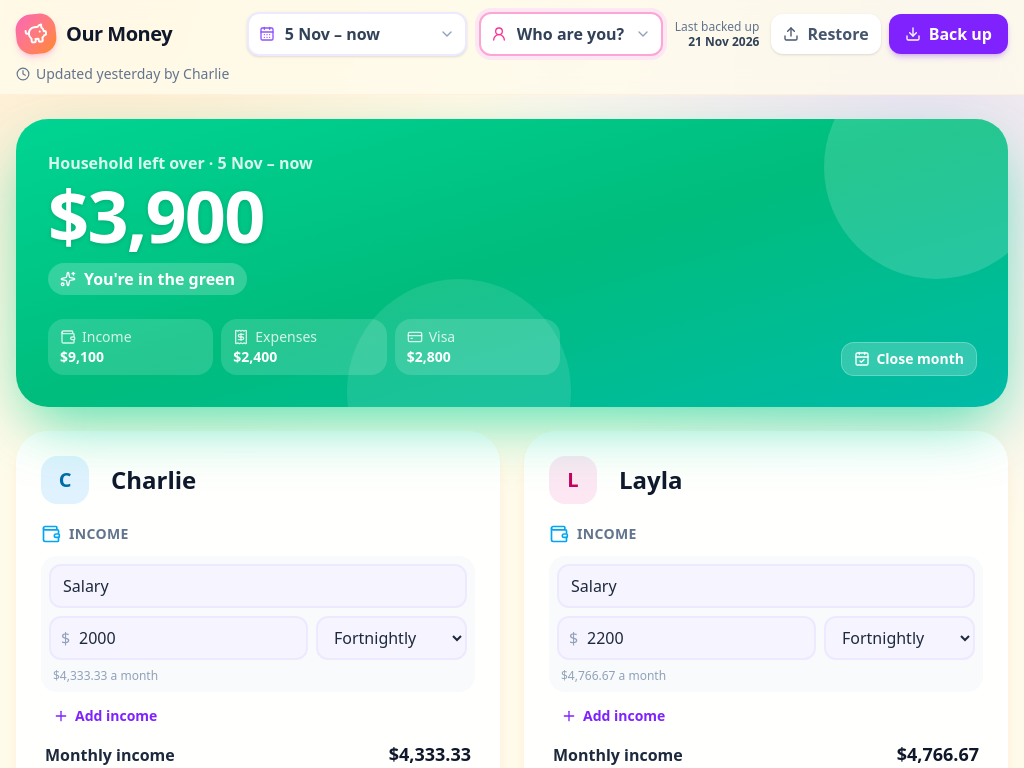
Restore › points out changes made since the last backup
This screenshot has width=1024, height=768.
Step 1. Click the button "Restore" → click(826, 34), box [771,14,881,54]
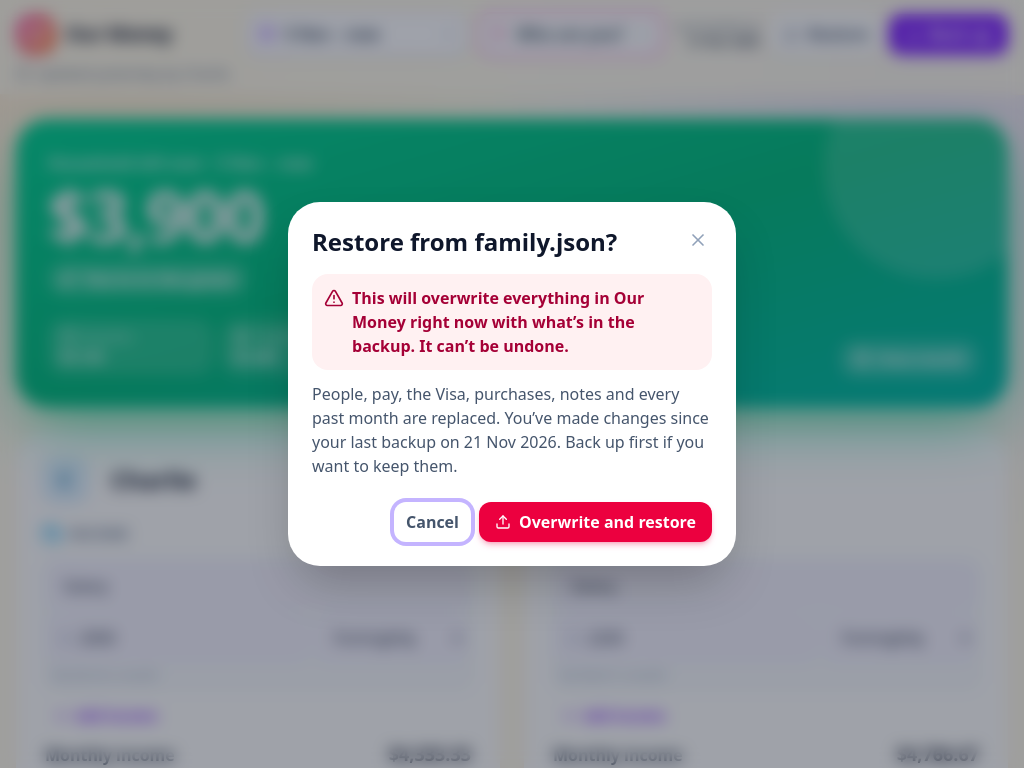
Expected: the dialog shows "You’ve made changes since your last backup", [312,407,709,477]
